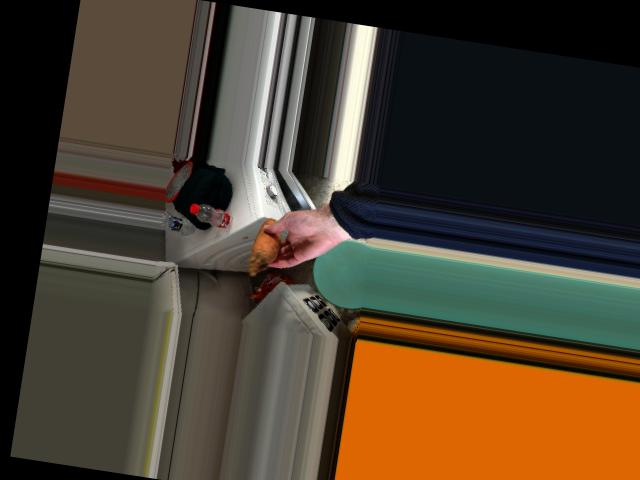sweet_potato: (249, 219, 281, 267)
